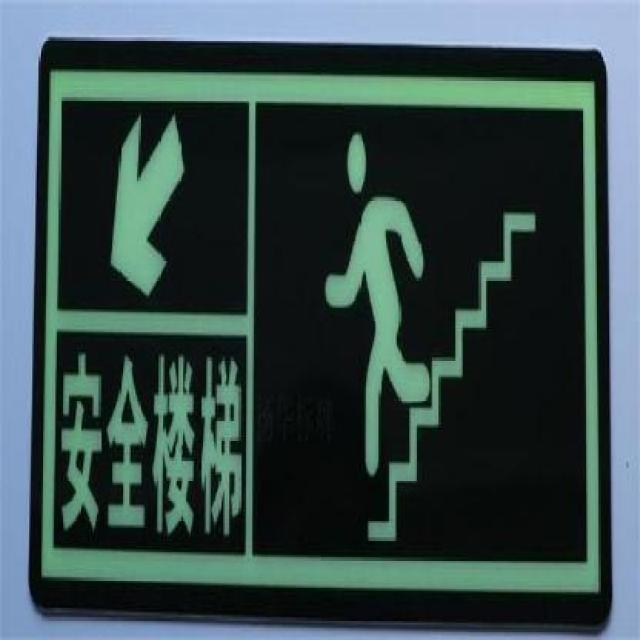exit_sign: (37, 24, 612, 616)
